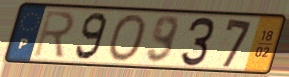3: (178, 15, 217, 68)
7: (221, 17, 253, 69)
9: (144, 13, 179, 66), (74, 11, 110, 62)
O: (106, 12, 148, 63)
R: (31, 9, 77, 59)
